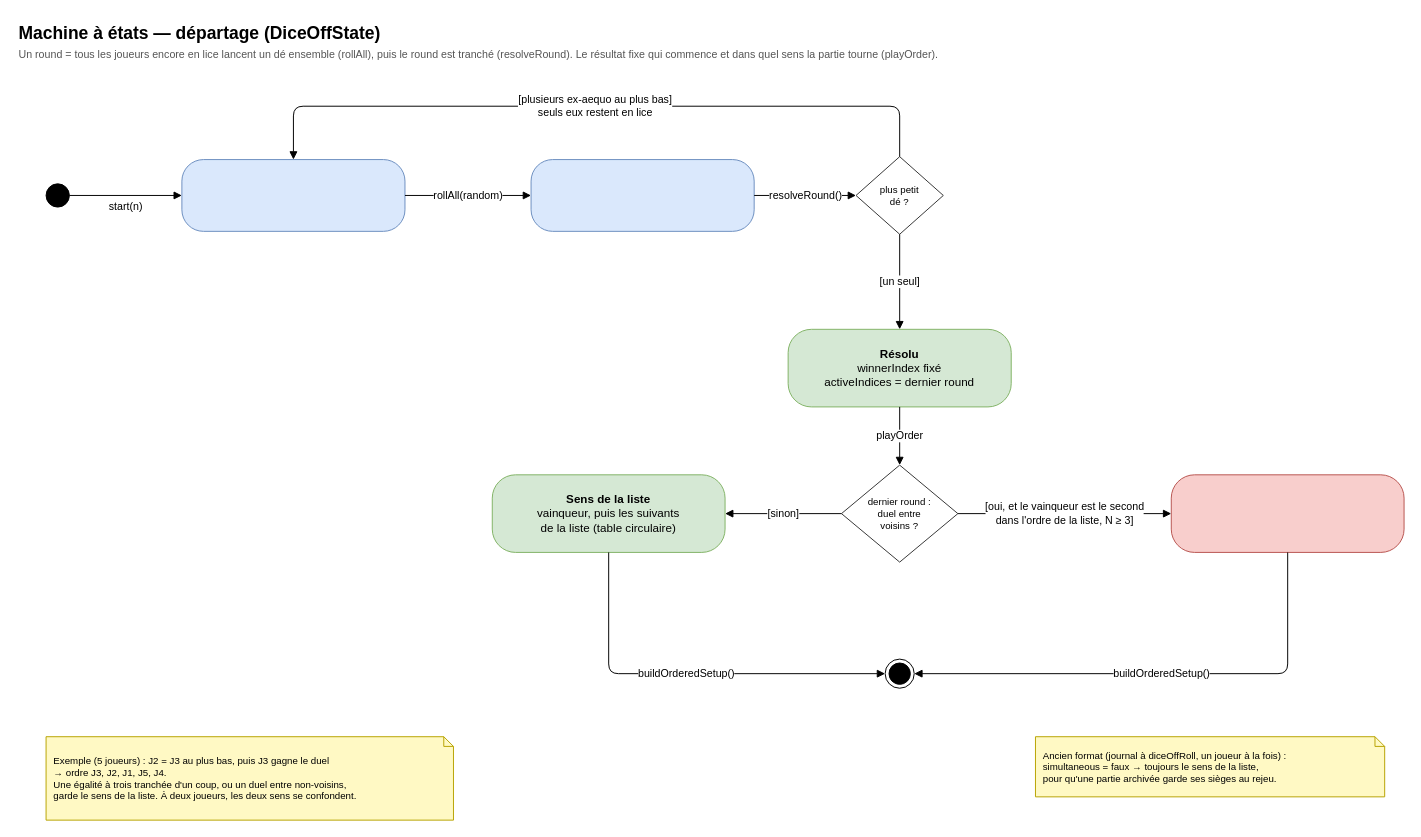
Image size: 1421x837. Some labels were removed from this diagram. Here are the shapes that lost their labels. From the top down, the centre of each, then its label:
At point (293, 195): "En attente du round activeIndices = joueurs en lice rollsThisRound vide".
At point (642, 195): "Round lancé un dé par joueur en lice (roundComplete)".
At point (1287, 513): "Sens inversé reversesOrder = vrai vainqueur, puis vers le perdant".
